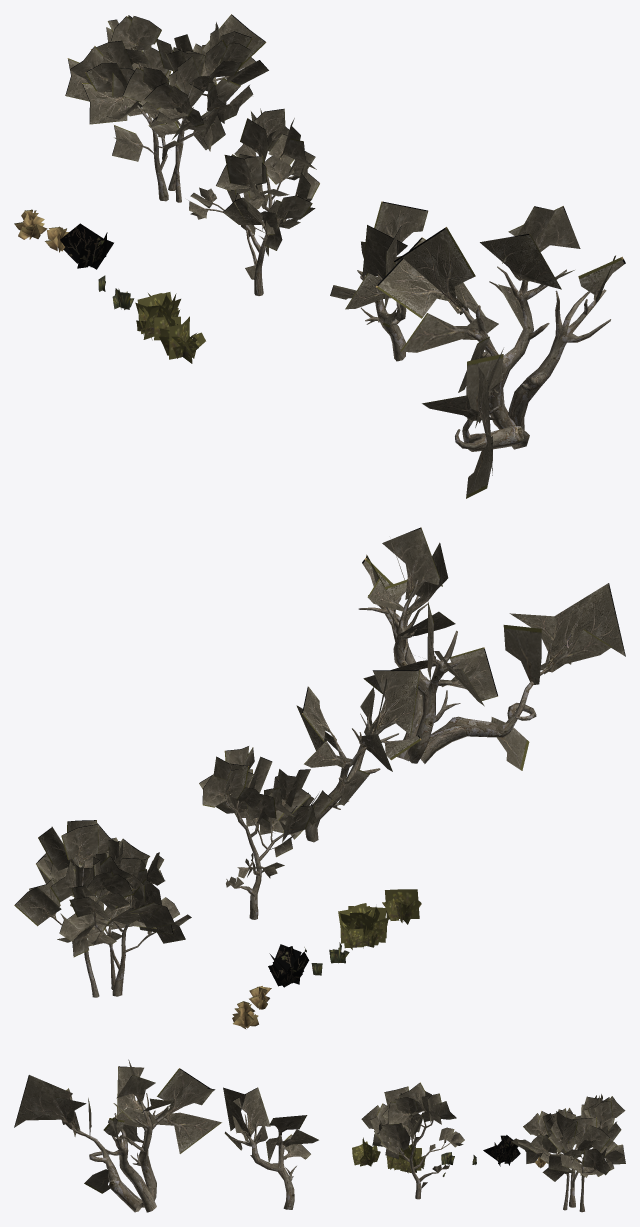
Rendered from d_2102_tree.FBX.
The picture shows the model from 3 angles, top to bottom: view 1: azimuth 30°, elevation 25°; view 2: azimuth 150°, elevation 25°; view 3: azimuth 270°, elevation 25°; orthographic projection. The views are drawn at different scales.
Parts seen in each view (by area): view 1: d_tree_04, d_tree_01, d_tree_02, d_tree_03, d_grass05, d_grass03, d_grass06; view 2: d_tree_04, d_tree_01, d_tree_02, d_tree_03, d_grass05, d_grass03, d_grass06; view 3: d_tree_04, d_tree_01, d_tree_02, d_tree_03, d_grass03, d_grass05, d_grass06.
Part boxes in pixels (x1=…): d_tree_04: x1=376, y1=206, x2=625, y2=498; d_tree_01: x1=65, y1=14, x2=268, y2=202; d_tree_02: x1=188, y1=108, x2=319, y2=295; d_tree_03: x1=330, y1=201, x2=428, y2=361; d_grass05: x1=135, y1=292, x2=180, y2=340; d_grass03: x1=60, y1=223, x2=113, y2=269; d_grass06: x1=159, y1=316, x2=205, y2=363; d_tree_04: x1=358, y1=527, x2=625, y2=770; d_tree_01: x1=14, y1=820, x2=191, y2=997; d_tree_02: x1=199, y1=746, x2=332, y2=919; d_tree_03: x1=296, y1=670, x2=421, y2=842; d_grass05: x1=338, y1=903, x2=388, y2=949; d_grass03: x1=268, y1=944, x2=309, y2=987; d_grass06: x1=382, y1=889, x2=421, y2=924; d_tree_04: x1=14, y1=1059, x2=221, y2=1212; d_tree_01: x1=511, y1=1094, x2=625, y2=1212; d_tree_02: x1=361, y1=1082, x2=464, y2=1199; d_tree_03: x1=223, y1=1087, x2=318, y2=1209; d_grass03: x1=483, y1=1135, x2=520, y2=1166; d_grass05: x1=386, y1=1144, x2=425, y2=1173; d_grass06: x1=352, y1=1137, x2=380, y2=1166.
Size of the model in its own units: 710 by 660 by 2243.
